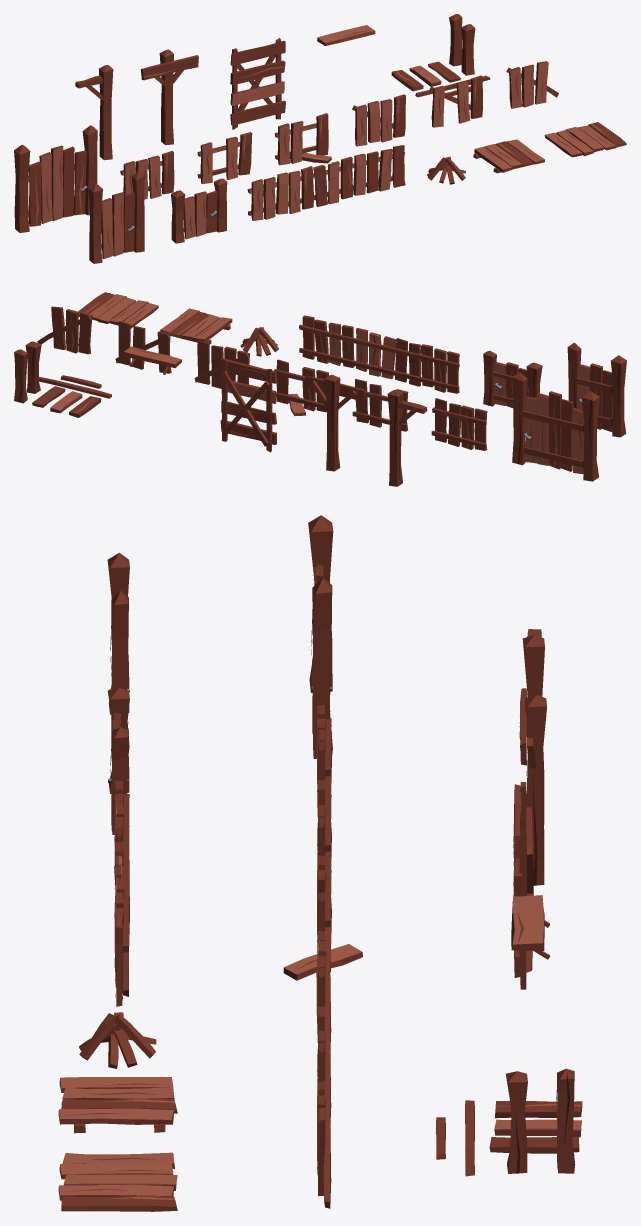
Rendered from Fence pack.fbx.
3 views of the same model, one above another, from view 1: azimuth 30°, elevation 25°; view 2: azimuth 150°, elevation 25°; view 3: azimuth 270°, elevation 25° (orthographic). The views are drawn at different scales.
Parts seen in each view (by area): view 1: Fence_long, Fence_door.002, Wood_structure, Fence_enter.002, Fence_01, Fence_door.001, Fence_06, Fence_enter.001, Wood_high_2, Wood_board_2, Fence_05, Fence_04 (+10 smaller); view 2: Fence_long, Fence_door.002, Wood_structure, Fence_enter.002, Fence_04, Wood_high_2, Fence_enter.001, Fence_03, Wood_board_2, Fence_06, Wood_high_1, Fence_door.001 (+14 smaller); view 3: Wood_board_2, Wood_board_1, Fence_enter.002, Wood_high_2, Fence_long, Wood_structure, Fence_enter.001, Fence_06, fire, Fence_enter, Shelf, Wood_large_1 (+10 smaller).
Boxes of the visible parts, <box> form: Fence_long: <box>247,145,405,220</box>; Fence_door.002: <box>28,145,87,226</box>; Wood_structure: <box>230,38,285,129</box>; Fence_enter.002: <box>14,125,97,232</box>; Fence_01: <box>352,94,405,146</box>; Fence_door.001: <box>101,192,134,258</box>; Fence_06: <box>274,113,331,165</box>; Fence_enter.001: <box>88,170,144,263</box>; Wood_high_2: <box>140,49,198,145</box>; Wood_board_2: <box>544,122,626,157</box>; Fence_05: <box>197,132,252,184</box>; Fence_04: <box>120,150,174,199</box>; Fence_long: <box>299,315,459,393</box>; Fence_door.002: <box>522,391,584,474</box>; Wood_structure: <box>220,358,277,452</box>; Fence_enter.002: <box>512,372,599,481</box>; Fence_04: <box>431,398,487,450</box>; Wood_high_2: <box>306,374,364,471</box>; Fence_enter.001: <box>567,342,626,437</box>; Fence_03: <box>37,306,92,354</box>; Wood_board_2: <box>78,292,158,328</box>; Fence_06: <box>274,359,328,416</box>; Wood_high_1: <box>387,389,427,486</box>; Fence_door.001: <box>577,363,612,431</box>; Wood_board_2: <box>58,1152,177,1211</box>; Wood_board_1: <box>58,1077,177,1133</box>; Fence_enter.002: <box>308,515,333,758</box>; Wood_high_2: <box>519,688,546,885</box>; Fence_long: <box>114,780,129,1006</box>; Wood_structure: <box>513,782,533,989</box>; Fence_enter.001: <box>107,552,129,752</box>; Fence_06: <box>283,855,362,980</box>; fire: <box>79,1012,156,1068</box>; Fence_enter: <box>107,687,129,834</box>; Shelf: <box>511,895,550,959</box>; Wood_large_1: <box>505,1071,527,1173</box>.
Size of the model in its own units: 10.6 by 1.75 by 4.41.
